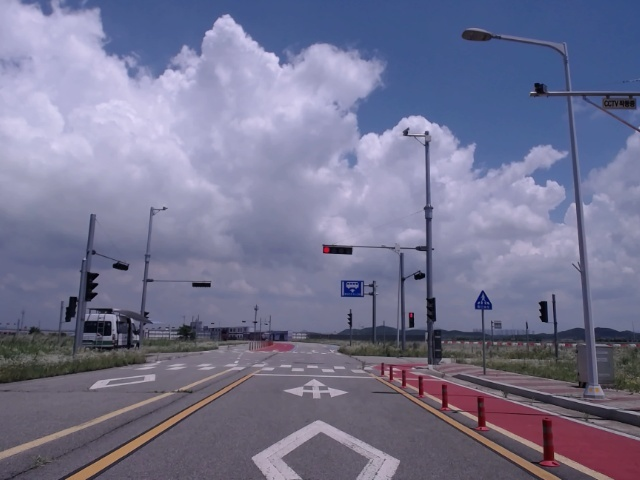red_4: (323, 246, 352, 255)
